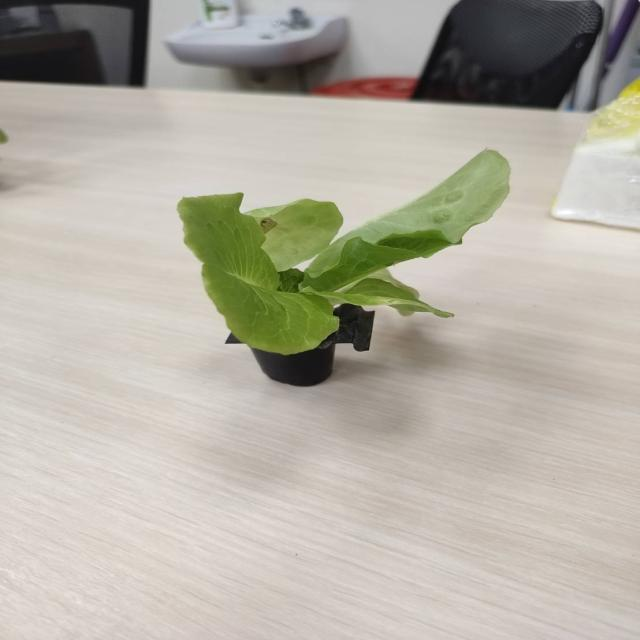Lettuce-Not-Ready-to-Harvest: (178, 150, 510, 355)
